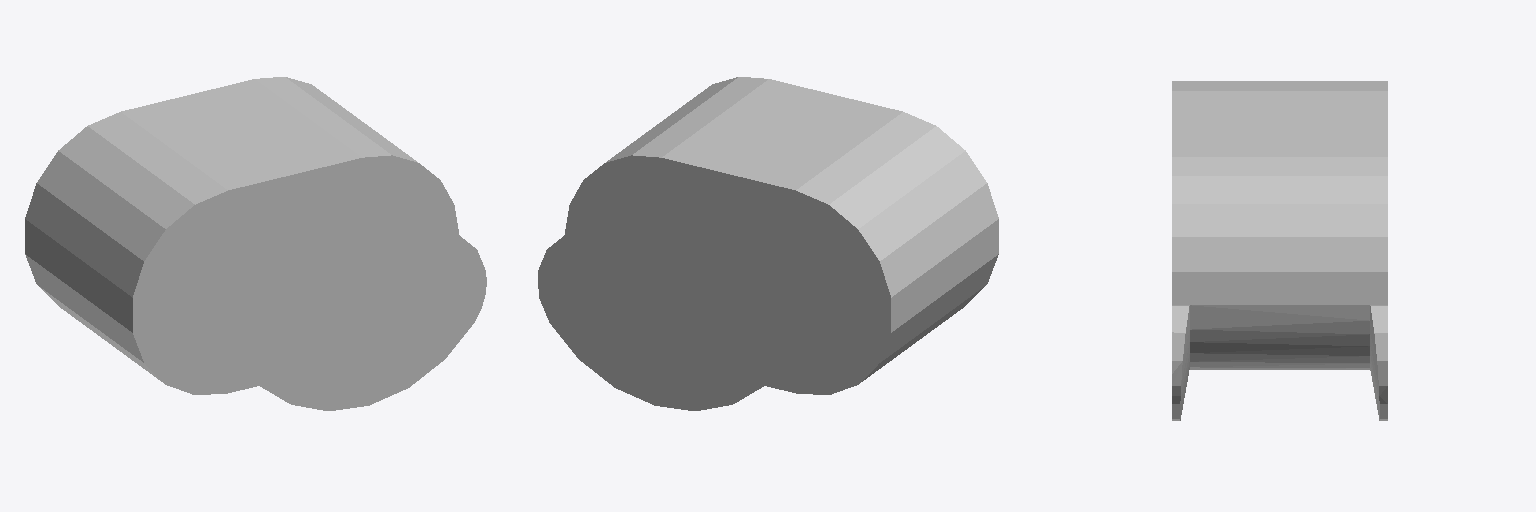
File: ph_small.obj
3 views of the same model, side by side, from view 1: azimuth 30°, elevation 25°; view 2: azimuth 150°, elevation 25°; view 3: azimuth 270°, elevation 25° (orthographic).
Visible parts, largest first — view 1: ph_small; view 2: ph_small; view 3: ph_small.
Boxes of the visible parts, box(x1,y1,x2,y2) form: ph_small: box(25, 77, 486, 410); ph_small: box(538, 77, 998, 410); ph_small: box(1172, 81, 1387, 420).
Bounding box in the file's own units: 23.74 × 15.99 × 12.5.